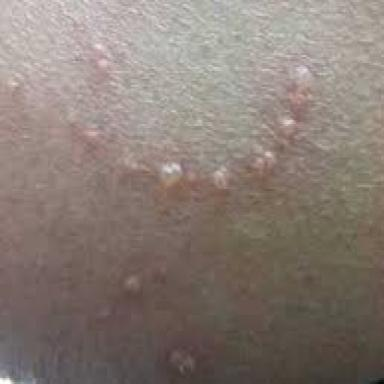Molluscum-Contagiosum: (118, 59, 310, 191), (169, 348, 196, 377), (95, 43, 109, 74), (123, 275, 142, 294), (83, 129, 99, 150)
